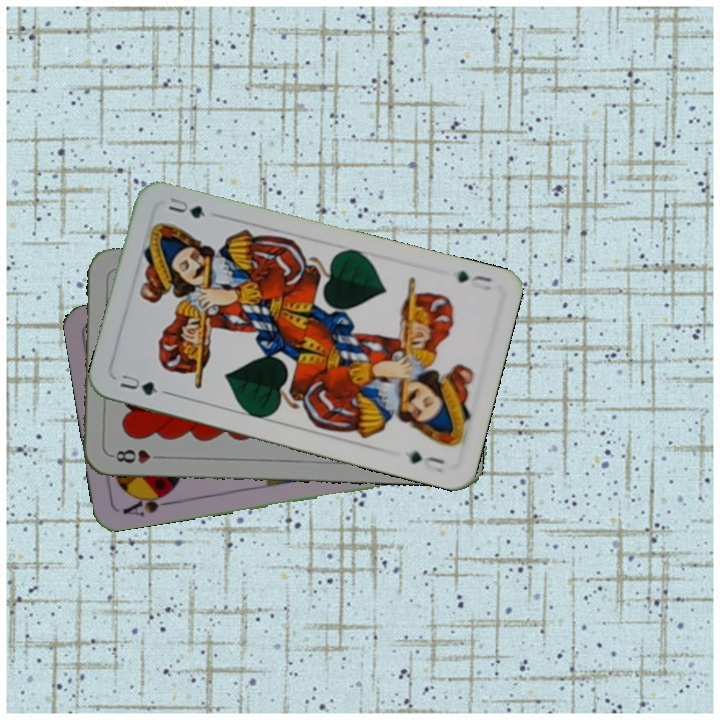GU: (116, 370, 160, 398), (452, 266, 496, 294)
H8: (107, 445, 166, 466)
SA: (119, 487, 176, 519)
